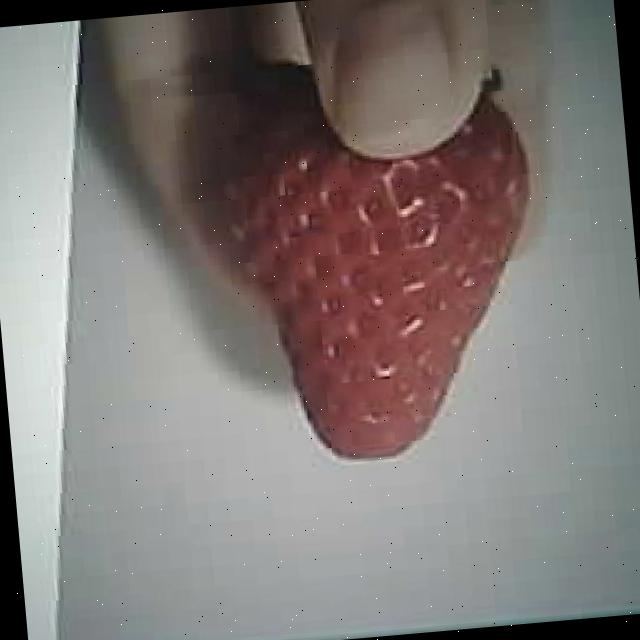strawberry: (223, 88, 553, 469)
